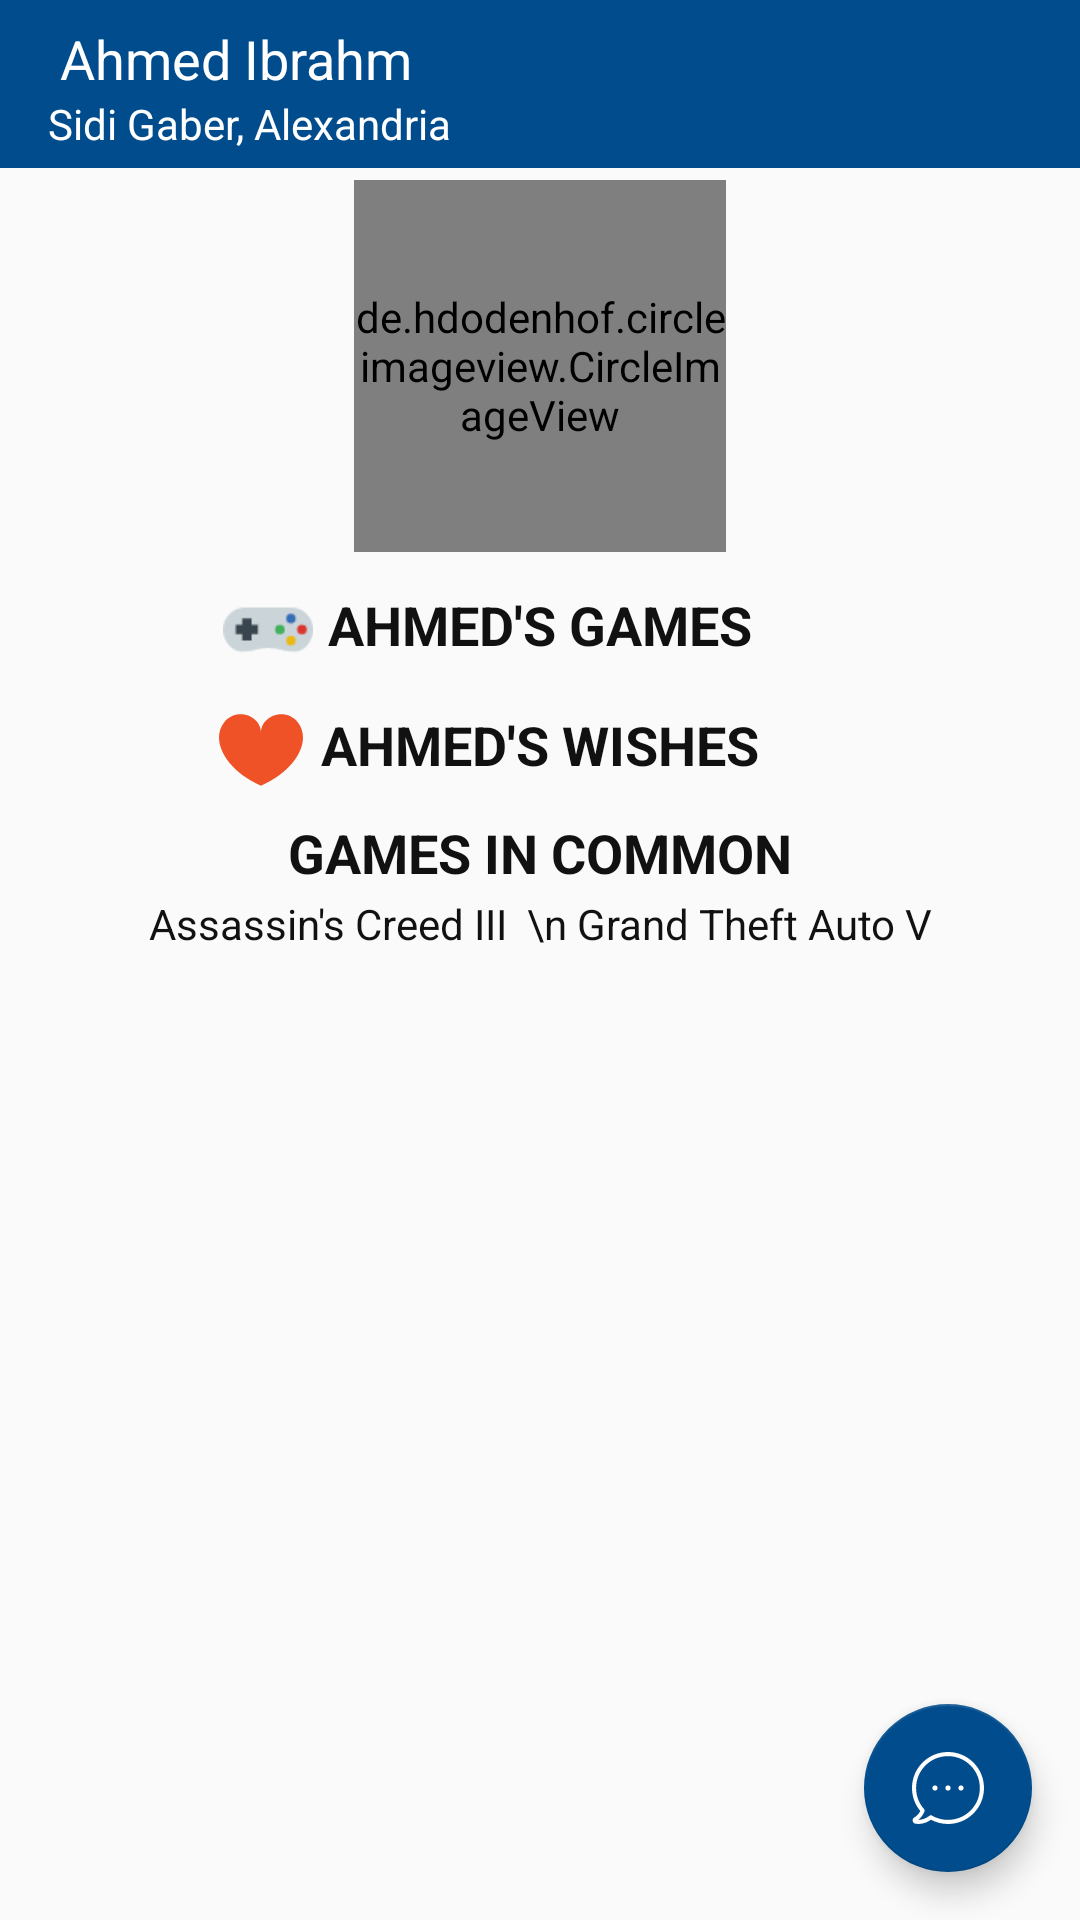

Point at icon controls on the screen. Image size 1080×1920, points as [x,y].
chat: [948,1788]
heart: [261,750]
